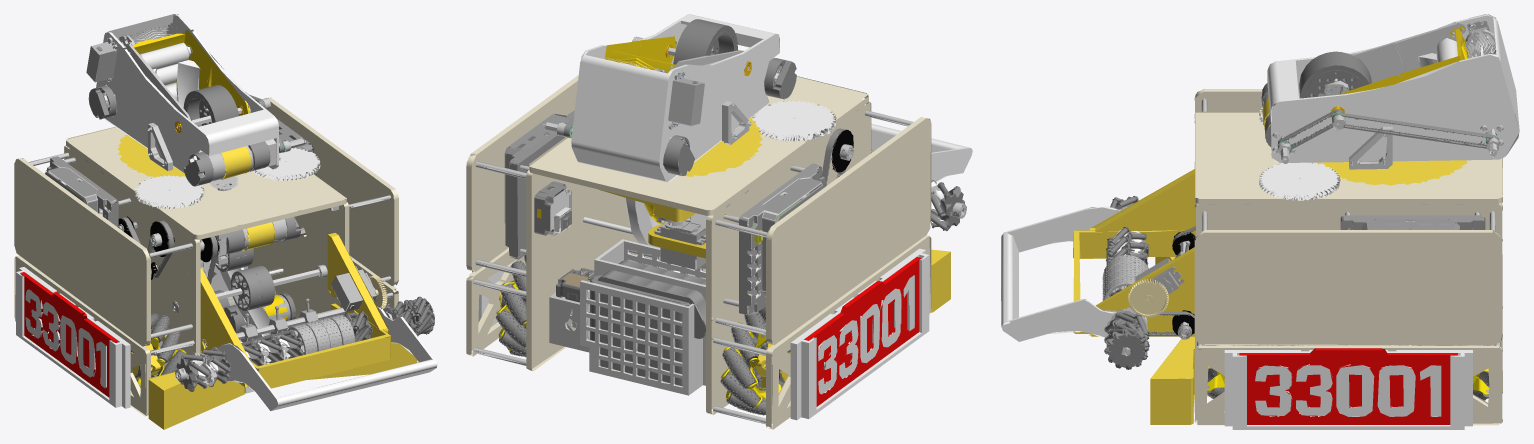
The model's file is robot.glb.
3 views of the same model, side by side, from view 1: azimuth 30°, elevation 25°; view 2: azimuth 150°, elevation 25°; view 3: azimuth 270°, elevation 25° (orthographic). The views are drawn at different scales.
Visible parts, largest first — view 1: lower turret plate, Top Hub, Part 1 (×2), PLA Core, 48mm Gecko Wheel - 30A Gripforce(GB), 1620rpm Motor - Yellowjacket (GB), 12V Battery (GB), Set Screw Collar - 8mm REX Bore (GB), outer race, Control Hub REV-31-1152, Pollen, little shim (+4 smaller); view 2: lower turret plate, Top Hub, Part 1 (×3), 48mm Gecko Wheel - 30A Gripforce(GB), Control Hub REV-31-1152, PLA Core, Set Screw Collar - 8mm REX Bore (GB), 12V Battery (GB), 1620rpm Motor - Yellowjacket (GB), outer race, Pollen, little shim (+3 smaller); view 3: lower turret plate, Top Hub, Part 1, 12V Battery (GB), 1620rpm Motor - Yellowjacket (GB), PLA Core, Set Screw Collar - 8mm REX Bore (GB), 48mm Gecko Wheel - 30A Gripforce(GB), Control Hub REV-31-1152, 48t Servo Gear - 25t Spline (GB), Body1, Pollen (+4 smaller).
Part boxes in pixels (x1,y1,x2,y2): lower turret plate: [14, 97, 398, 416]; Top Hub: [16, 14, 437, 411]; Part 1 (×2): [118, 135, 417, 429]; PLA Core: [104, 85, 434, 391]; 48mm Gecko Wheel - 30A Gripforce(GB): [88, 85, 321, 372]; 1620rpm Motor - Yellowjacket (GB): [25, 90, 369, 388]; 12V Battery (GB): [20, 272, 117, 397]; Set Screw Collar - 8mm REX Bore (GB): [29, 34, 394, 381]; outer race: [86, 40, 377, 369]; Control Hub REV-31-1152: [45, 118, 313, 226]; Pollen: [129, 29, 287, 320]; little shim: [139, 42, 288, 393]; lower turret plate: [466, 72, 931, 429]; Top Hub: [472, 14, 972, 420]; Part 1 (×3): [499, 81, 950, 395]; 48mm Gecko Wheel - 30A Gripforce(GB): [534, 58, 961, 385]; Control Hub REV-31-1152: [504, 111, 825, 315]; PLA Core: [495, 19, 964, 415]; Set Screw Collar - 8mm REX Bore (GB): [473, 36, 966, 424]; 12V Battery (GB): [804, 257, 921, 406]; 1620rpm Motor - Yellowjacket (GB): [570, 50, 914, 394]; outer race: [496, 75, 764, 407]; Pollen: [537, 35, 676, 224]; little shim: [546, 187, 706, 279]; lower turret plate: [1194, 89, 1502, 425]; Top Hub: [1001, 14, 1519, 429]; Part 1: [1073, 160, 1467, 424]; 12V Battery (GB): [1239, 348, 1457, 424]; 1620rpm Motor - Yellowjacket (GB): [1255, 92, 1495, 416]; PLA Core: [1104, 51, 1489, 400]; Set Screw Collar - 8mm REX Bore (GB): [1107, 23, 1503, 349]; 48mm Gecko Wheel - 30A Gripforce(GB): [1149, 83, 1499, 336]; Control Hub REV-31-1152: [1340, 215, 1485, 229]; 48t Servo Gear - 25t Spline (GB): [1128, 279, 1168, 317]; Body1: [1102, 255, 1148, 300]; Pollen: [1339, 26, 1469, 94].
Size of what is drawn, in the model's own units: 0.371 by 0.356 by 0.5127.
